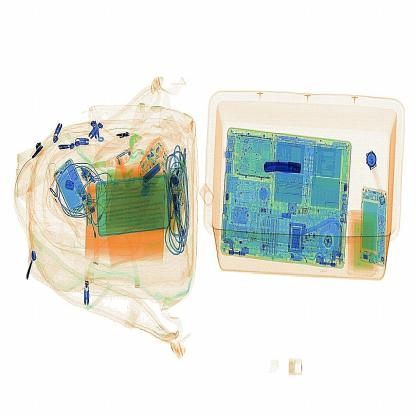knife: (258, 158, 308, 187)
